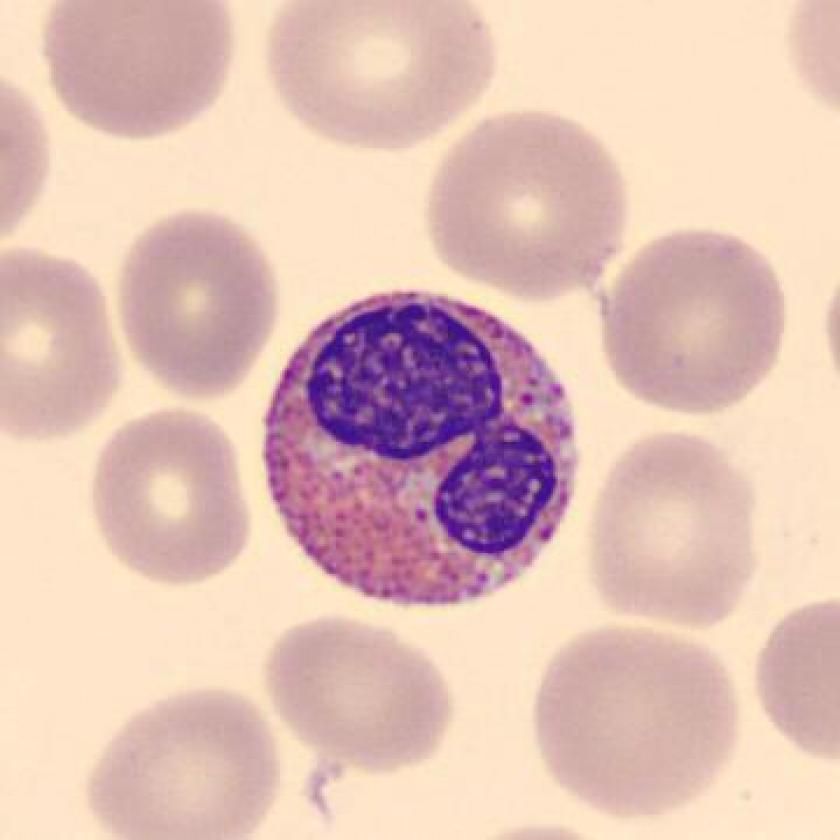eosinophil: (251, 281, 594, 619)
